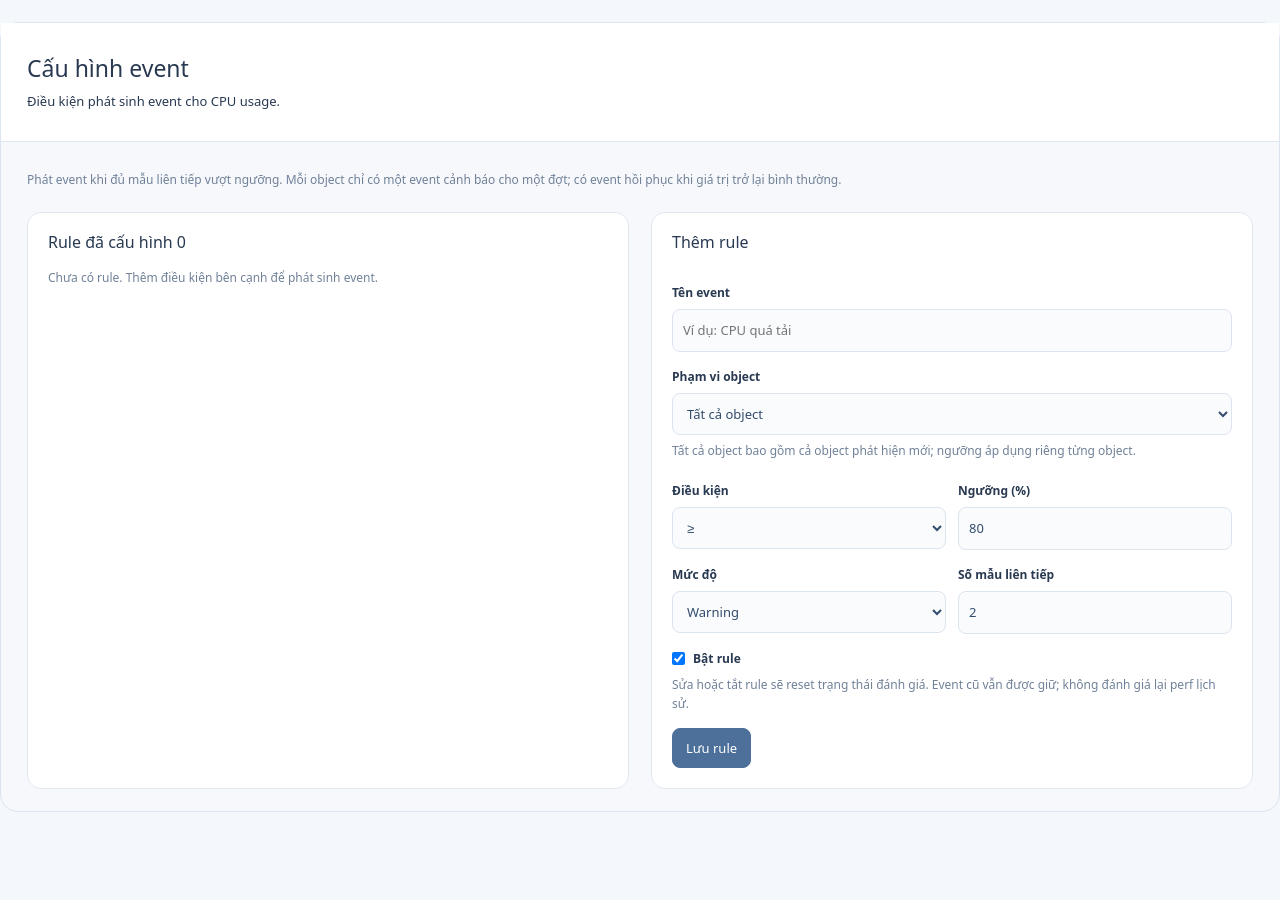
Test: offers exactly Minor, Warning, Critical, Fatal and saves a Fatal rule
Type "CPU quá tải nghiêm trọng" into the field with id "rule-name".
click(952, 330); type("CPU quá tải nghiêm trọng")  # box [672,309,1232,352]
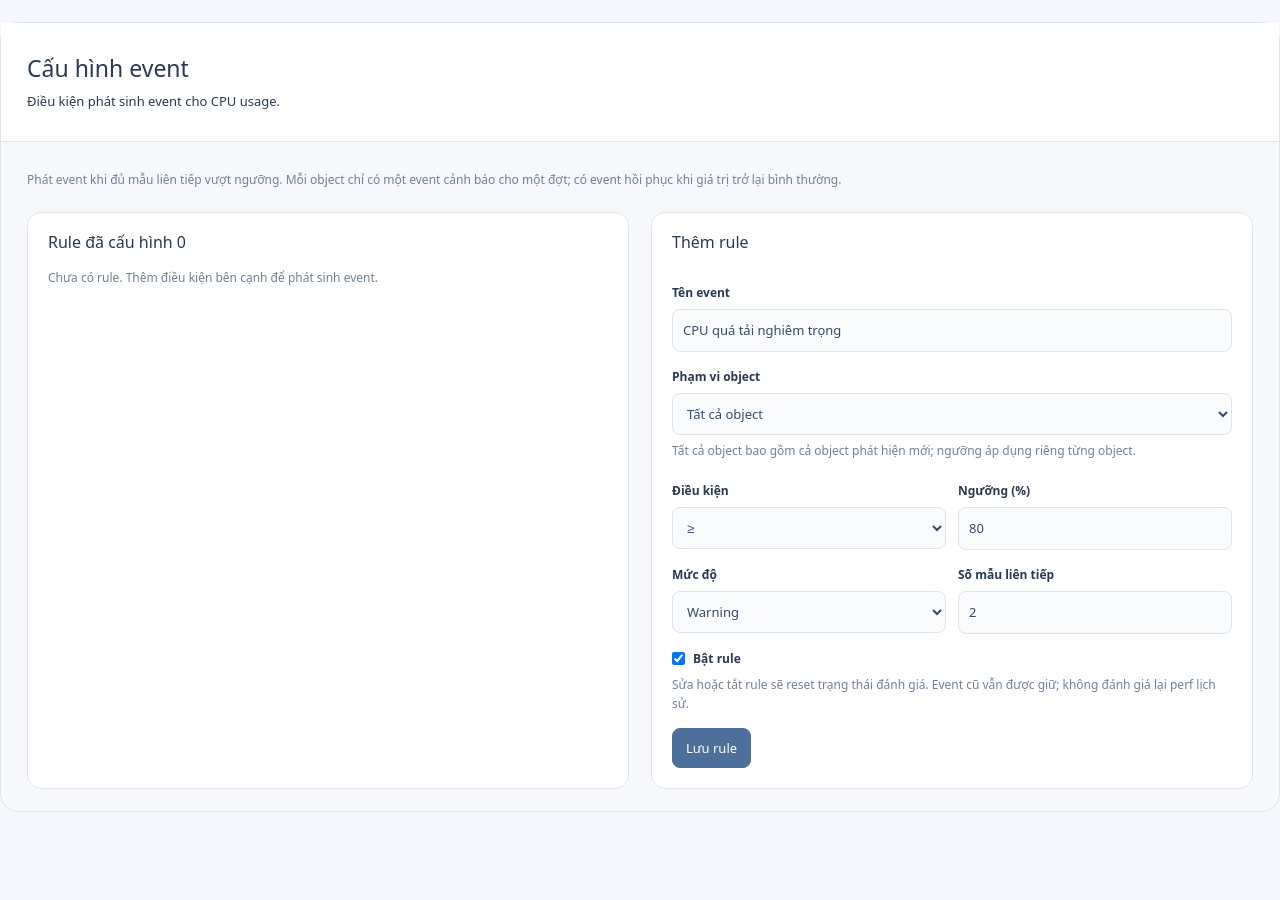
Select "Fatal" in the dropdown with id "rule-severity" at (809, 612), box [672,591,946,633]
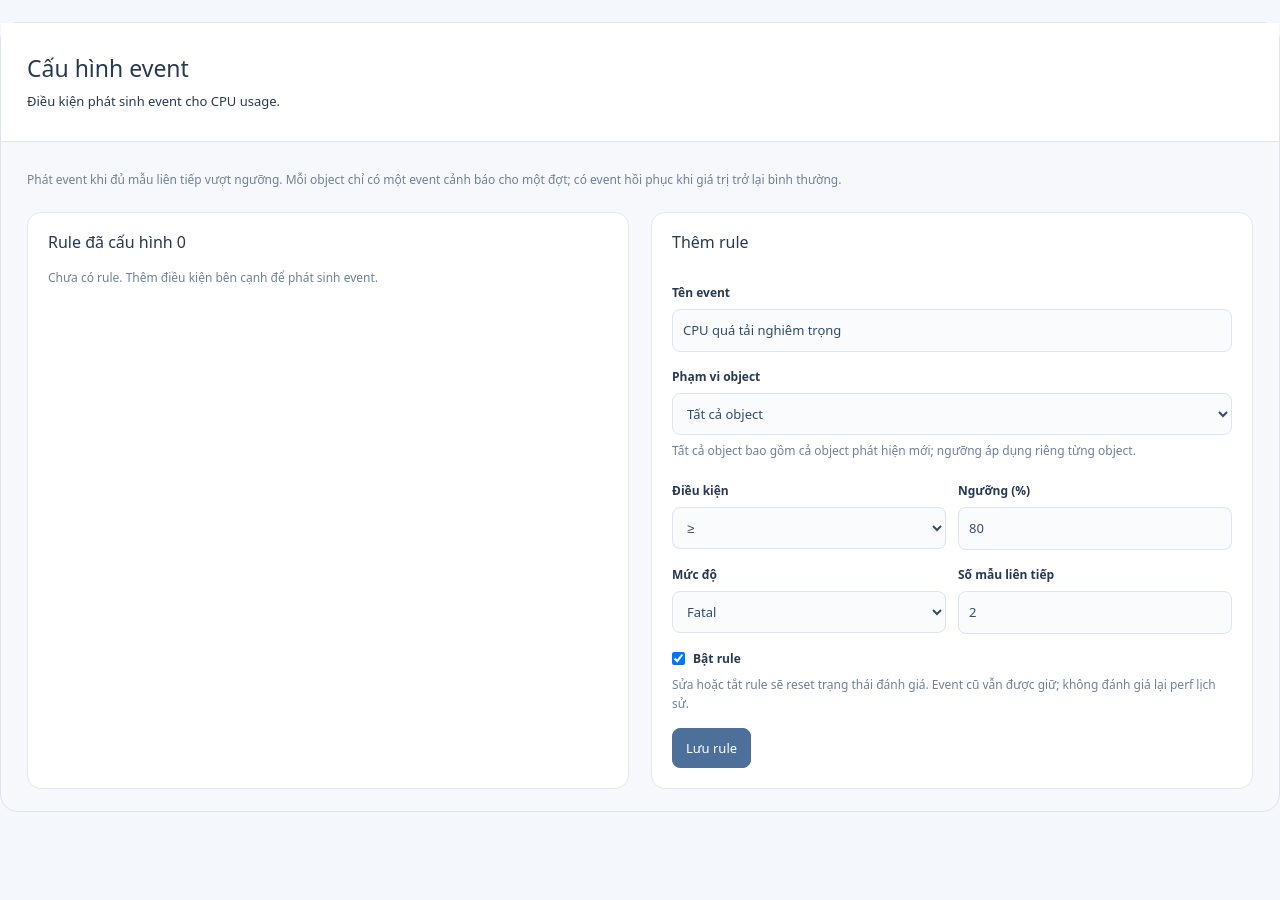
Submit the form, box [651,212,1253,790]
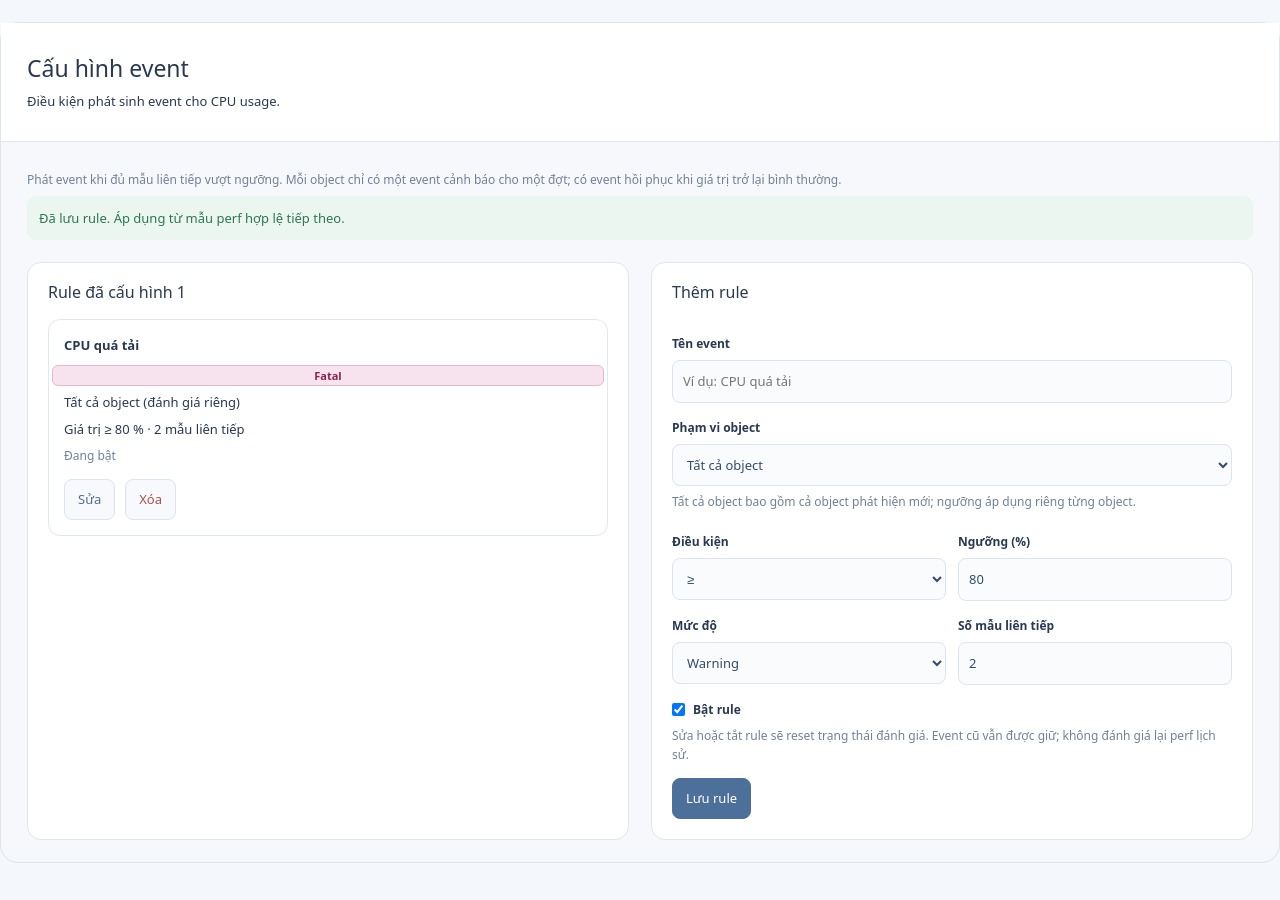
Now the text with class "badge" reads "Fatal", box [314,368,342,383]
